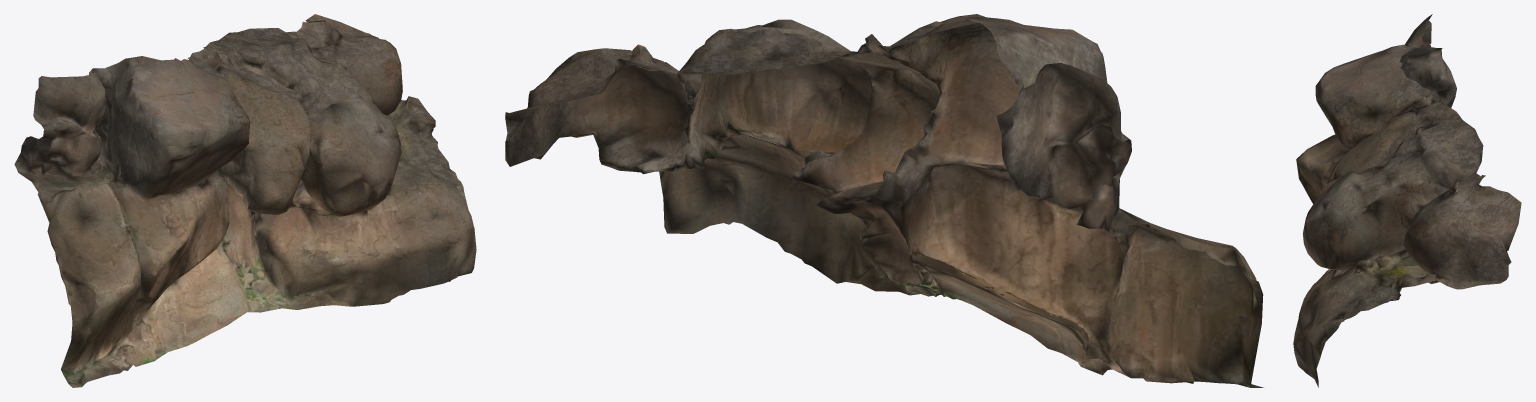
Rendered from rock_outcrop.glb.
3 renders of one model, left to right at view 1: azimuth 30°, elevation 25°; view 2: azimuth 150°, elevation 25°; view 3: azimuth 270°, elevation 25°, orthographic. The views are drawn at different scales.
Parts seen in each view (by area): view 1: drone_rock_01; view 2: drone_rock_01; view 3: drone_rock_01.
Part boxes in pixels (x1,y1,x2,y2): drone_rock_01: [14, 14, 476, 387]; drone_rock_01: [505, 14, 1263, 387]; drone_rock_01: [1293, 14, 1521, 387].
Bounding box in the file's own units: 8.27 × 4.96 × 4.38.
Materials: 1 (1 with a texture image).
